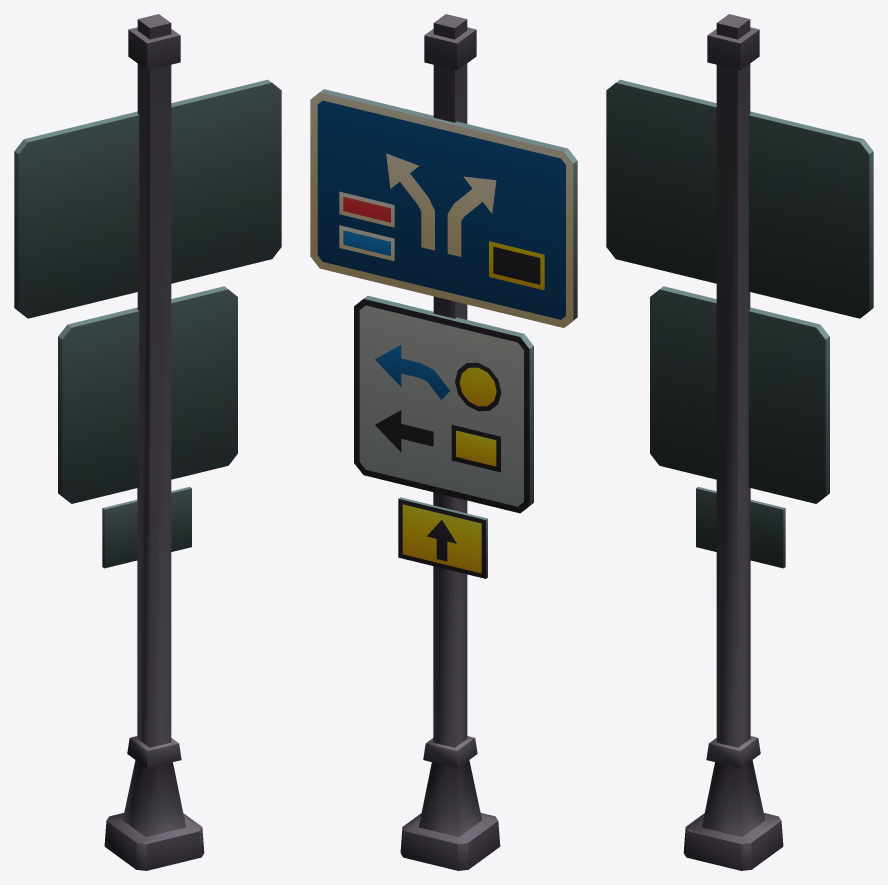
The model's file is Signpost_1A.fbx.
The picture shows the model from 3 angles, left to right: view 1: azimuth 30°, elevation 25°; view 2: azimuth 150°, elevation 25°; view 3: azimuth 330°, elevation 25°; orthographic projection.
Parts seen in each view (by area): view 1: Signpost_1A_Addon, Signpost_1A; view 2: Signpost_1A_Addon, Signpost_1A; view 3: Signpost_1A_Addon, Signpost_1A.
Part boxes in pixels (left/top/right/bottom): Signpost_1A_Addon: left=14, top=79, right=281, bottom=568; Signpost_1A: left=104, top=14, right=204, bottom=870; Signpost_1A_Addon: left=310, top=89, right=577, bottom=578; Signpost_1A: left=400, top=14, right=500, bottom=870; Signpost_1A_Addon: left=606, top=79, right=873, bottom=568; Signpost_1A: left=683, top=14, right=783, bottom=870.
Bounding box in the file's own units: 421 × 1269 × 109.
